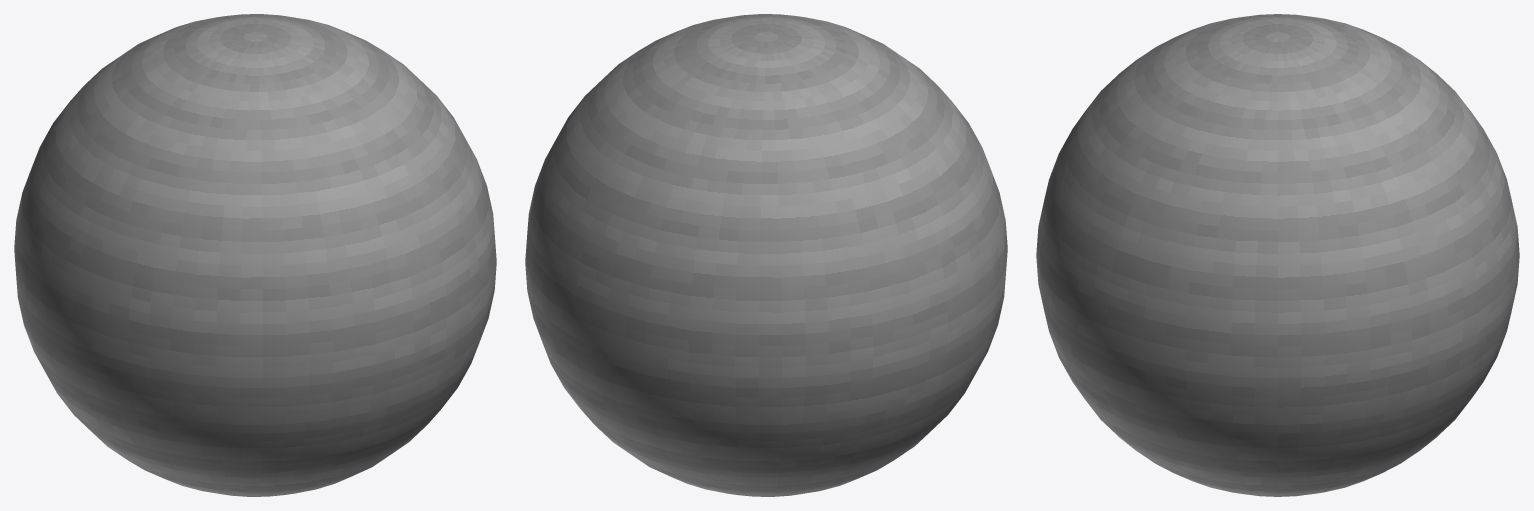
Rendered from sphere_metal.obj.
3 renders of one model, left to right at view 1: azimuth 30°, elevation 25°; view 2: azimuth 150°, elevation 25°; view 3: azimuth 270°, elevation 25°, orthographic.
Bounding box in the file's own units: 1 × 1 × 1.
1 material, 1 textured.
